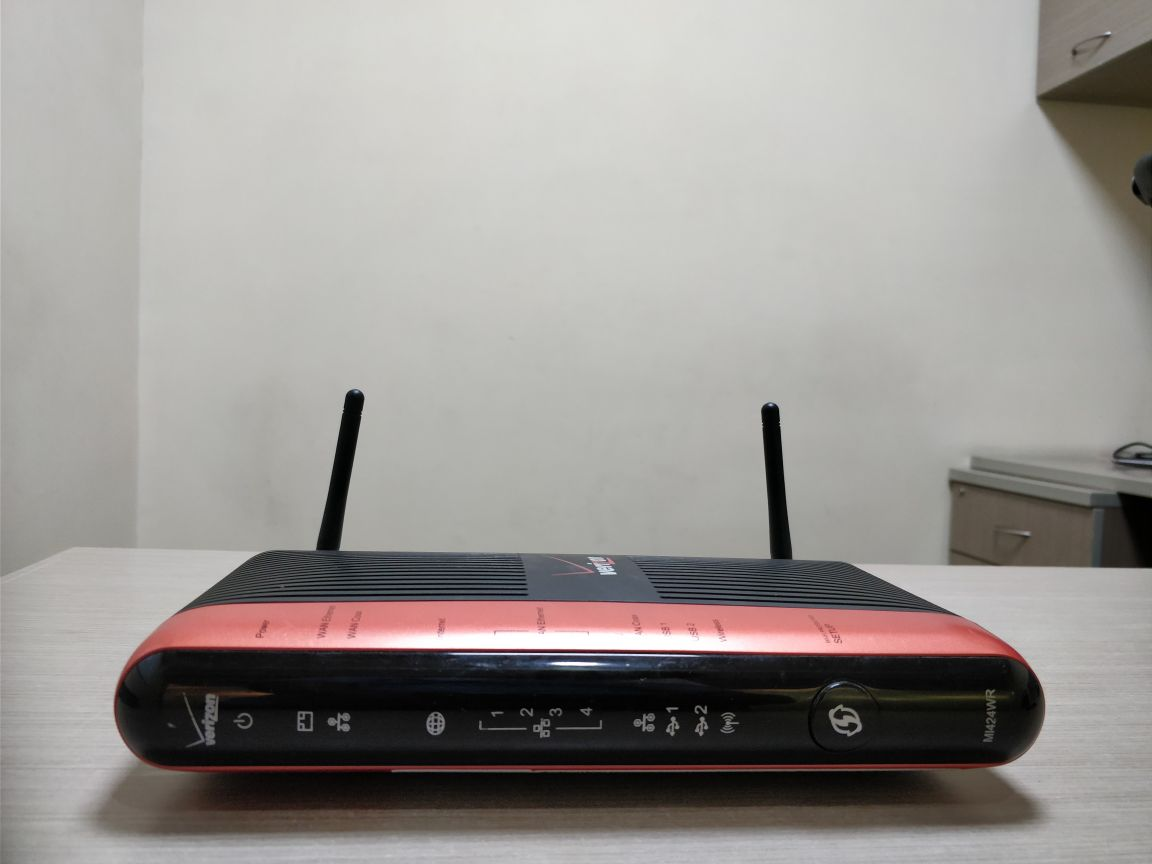Verizon Router: (94, 403, 1084, 812)
